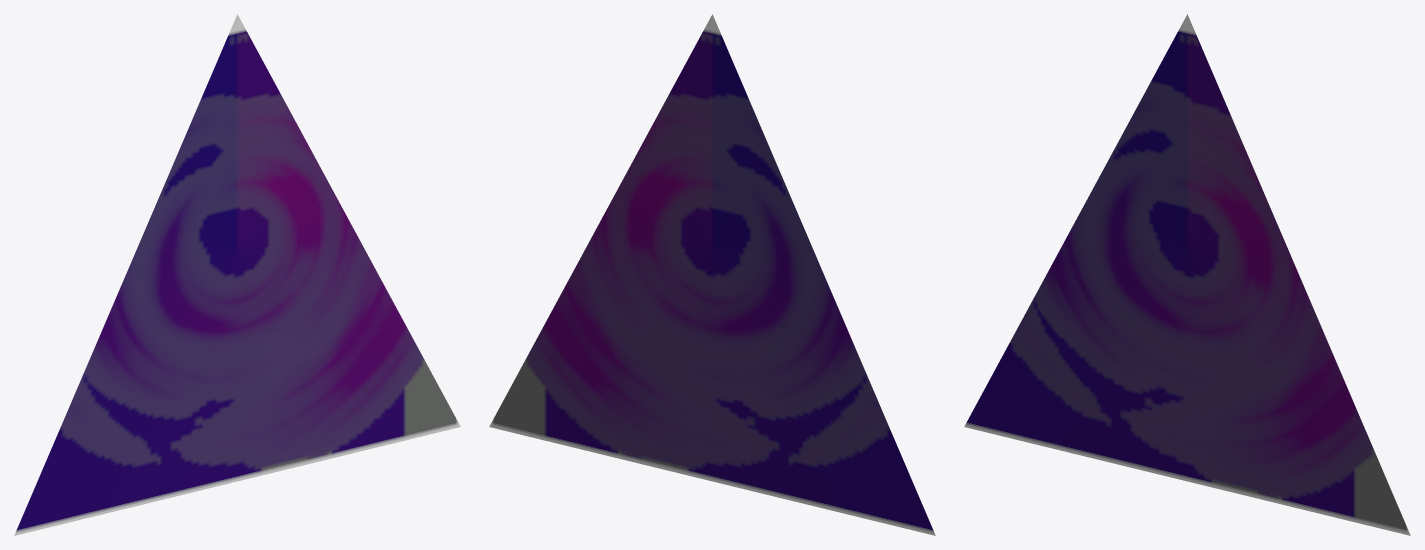
Rendered from effect_jiaxu_target_2.FBX.
The picture shows the model from 3 angles, left to right: view 1: azimuth 30°, elevation 25°; view 2: azimuth 150°, elevation 25°; view 3: azimuth 330°, elevation 25°; orthographic projection.
Parts seen in each view (by area): view 1: effect_jiaxu_target_2; view 2: effect_jiaxu_target_2; view 3: effect_jiaxu_target_2.
Boxes of the visible parts, box(x1,y1,x2,y2) form: effect_jiaxu_target_2: box(14, 14, 460, 535); effect_jiaxu_target_2: box(489, 14, 935, 535); effect_jiaxu_target_2: box(964, 14, 1410, 535).
Size of the model in its own units: 4 by 4 by 1.75e-07.
1 material, 1 textured.
